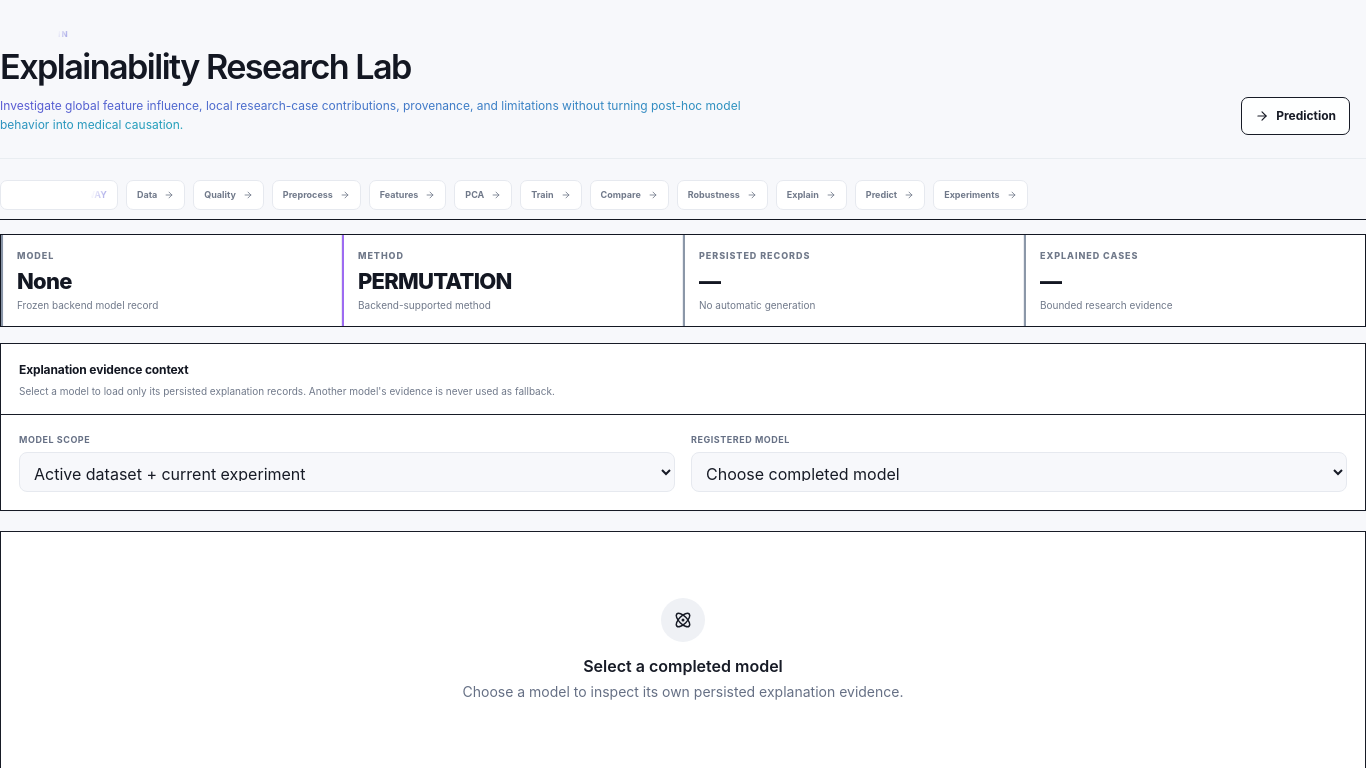
Test: hybrid SHAP presentation › shows SHAP as the actual hybrid method and labels global importance accurately
This screenshot has width=1366, height=768.
Select "PennyLane + PyTorch Hybrid · hybrid-m" in the dropdown labelled "Registered model" at [1019, 472], box [691,452,1347,492]
(page scrolled)
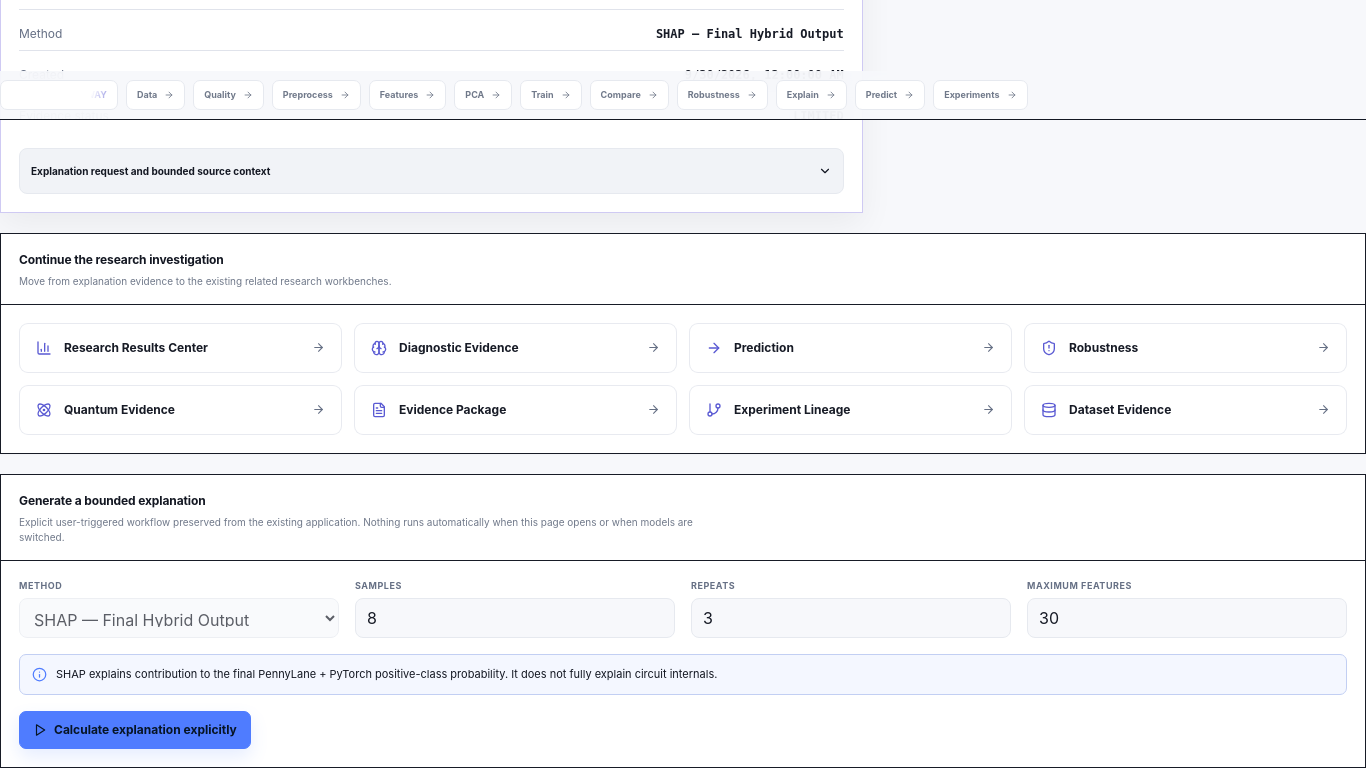
Now the dropdown named "Explanation method" shows "SHAP — Final Hybrid Output", box [19,598,339,638]
Now the text "Explains contribution to the final PennyLane + PyTorch positive-class probability" is shown, box [56,667,717,681]
